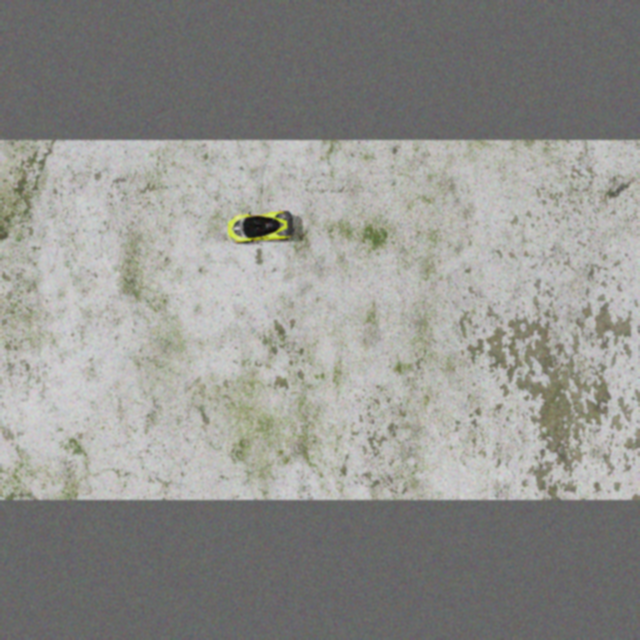car: (224, 207, 295, 245)
